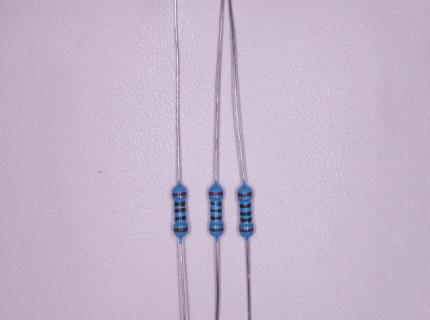Black band: (239, 203, 251, 209), (174, 201, 186, 207), (174, 215, 186, 221), (239, 211, 252, 216), (210, 216, 222, 221), (174, 208, 186, 213), (241, 217, 252, 222), (210, 202, 221, 206), (210, 209, 222, 212)
Brown band: (173, 227, 188, 232), (209, 227, 224, 232), (237, 192, 252, 197)
Red band: (172, 191, 187, 197), (208, 191, 223, 196), (239, 228, 253, 233)
